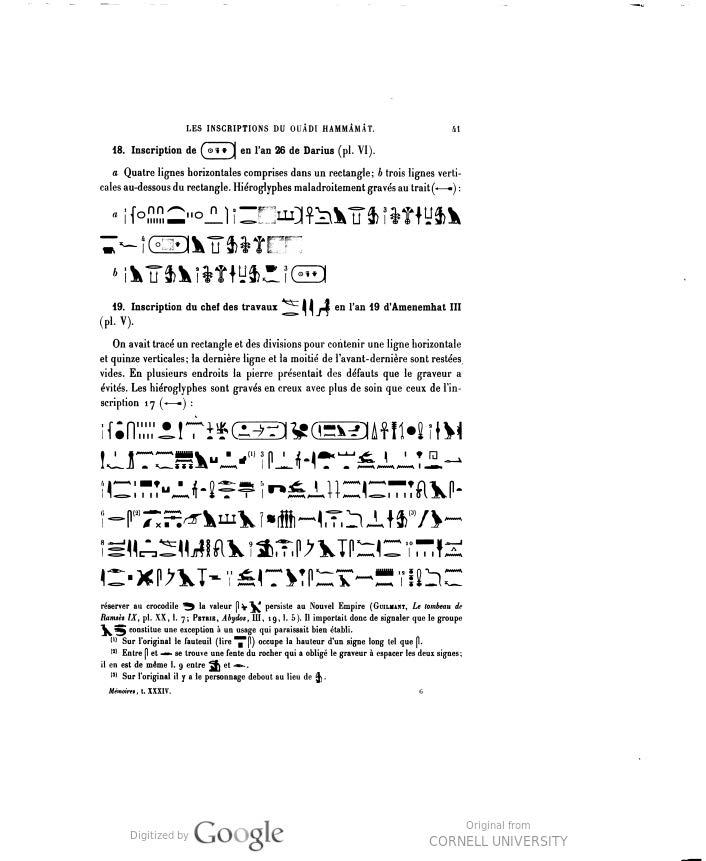circle: (231, 407, 296, 451), (308, 409, 374, 447), (146, 230, 201, 260), (287, 260, 338, 289), (195, 137, 245, 163)
